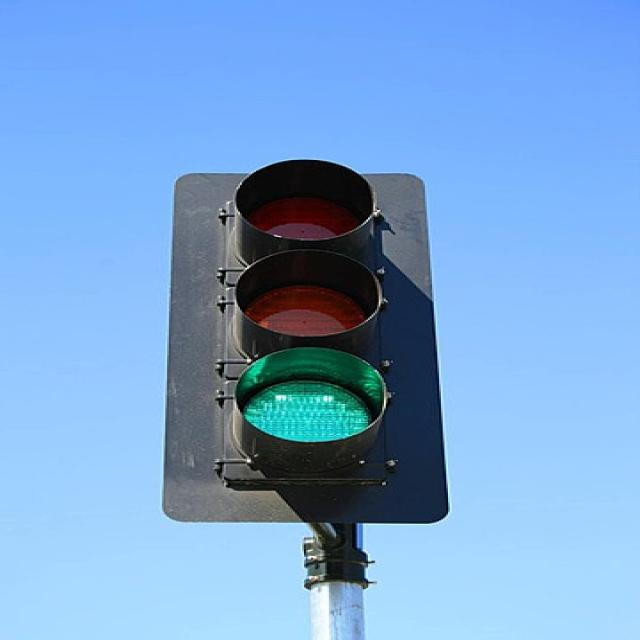green: (229, 334, 414, 467)
